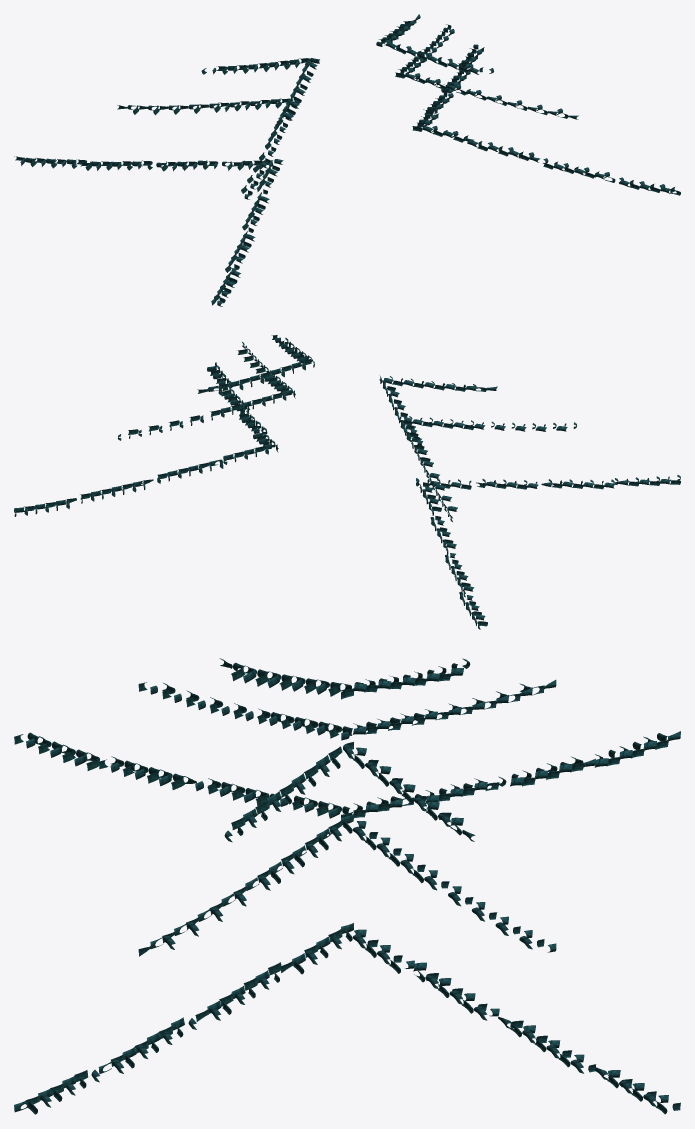
Rendered from R81-03-C-SIX-MERGED-TRUE-HIP-TILE-GLB.glb.
3 views of the same model, one above another, from view 1: azimuth 30°, elevation 25°; view 2: azimuth 150°, elevation 25°; view 3: azimuth 270°, elevation 25° (orthographic). The views are drawn at different scales.
Visible parts, largest first — view 1: R81_C_lower_barrel_SEALED_HIP_TILES, R81_C_lower_pan_SEALED_HIP_TILES, R81_C_middle_barrel_SEALED_HIP_TILES, R81_C_upper_barrel_SEALED_HIP_TILES, R81_C_middle_pan_SEALED_HIP_TILES, R81_C_upper_pan_SEALED_HIP_TILES; view 2: R81_C_lower_barrel_SEALED_HIP_TILES, R81_C_lower_pan_SEALED_HIP_TILES, R81_C_middle_barrel_SEALED_HIP_TILES, R81_C_upper_barrel_SEALED_HIP_TILES, R81_C_upper_pan_SEALED_HIP_TILES, R81_C_middle_pan_SEALED_HIP_TILES; view 3: R81_C_lower_barrel_SEALED_HIP_TILES, R81_C_lower_pan_SEALED_HIP_TILES, R81_C_middle_barrel_SEALED_HIP_TILES, R81_C_upper_barrel_SEALED_HIP_TILES, R81_C_middle_pan_SEALED_HIP_TILES, R81_C_upper_pan_SEALED_HIP_TILES.
Part boxes in pixels (box(x1,y1,x2,y2)): R81_C_lower_barrel_SEALED_HIP_TILES: box(14, 48, 671, 306); R81_C_lower_pan_SEALED_HIP_TILES: box(20, 44, 680, 305); R81_C_middle_barrel_SEALED_HIP_TILES: box(117, 24, 578, 199); R81_C_upper_barrel_SEALED_HIP_TILES: box(201, 14, 493, 127); R81_C_middle_pan_SEALED_HIP_TILES: box(127, 27, 568, 195); R81_C_upper_pan_SEALED_HIP_TILES: box(212, 18, 483, 121); R81_C_lower_barrel_SEALED_HIP_TILES: box(24, 365, 680, 629); R81_C_lower_pan_SEALED_HIP_TILES: box(14, 362, 680, 626); R81_C_middle_barrel_SEALED_HIP_TILES: box(118, 342, 576, 521); R81_C_upper_barrel_SEALED_HIP_TILES: box(197, 335, 497, 445); R81_C_upper_pan_SEALED_HIP_TILES: box(208, 337, 486, 441); R81_C_middle_pan_SEALED_HIP_TILES: box(128, 345, 566, 516); R81_C_lower_barrel_SEALED_HIP_TILES: box(14, 731, 680, 1107); R81_C_lower_pan_SEALED_HIP_TILES: box(14, 732, 680, 1114); R81_C_middle_barrel_SEALED_HIP_TILES: box(138, 680, 556, 956); R81_C_upper_barrel_SEALED_HIP_TILES: box(219, 658, 475, 842); R81_C_middle_pan_SEALED_HIP_TILES: box(150, 685, 544, 948); R81_C_upper_pan_SEALED_HIP_TILES: box(233, 662, 461, 835).
Bounding box in the file's own units: 185 × 49.1 × 139.
Materials: 1 (1 with a texture image).
